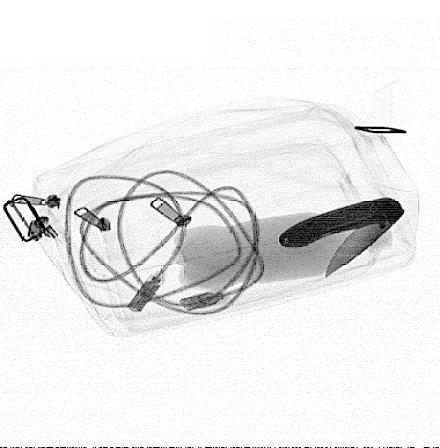Knife: (277, 195, 406, 279)
